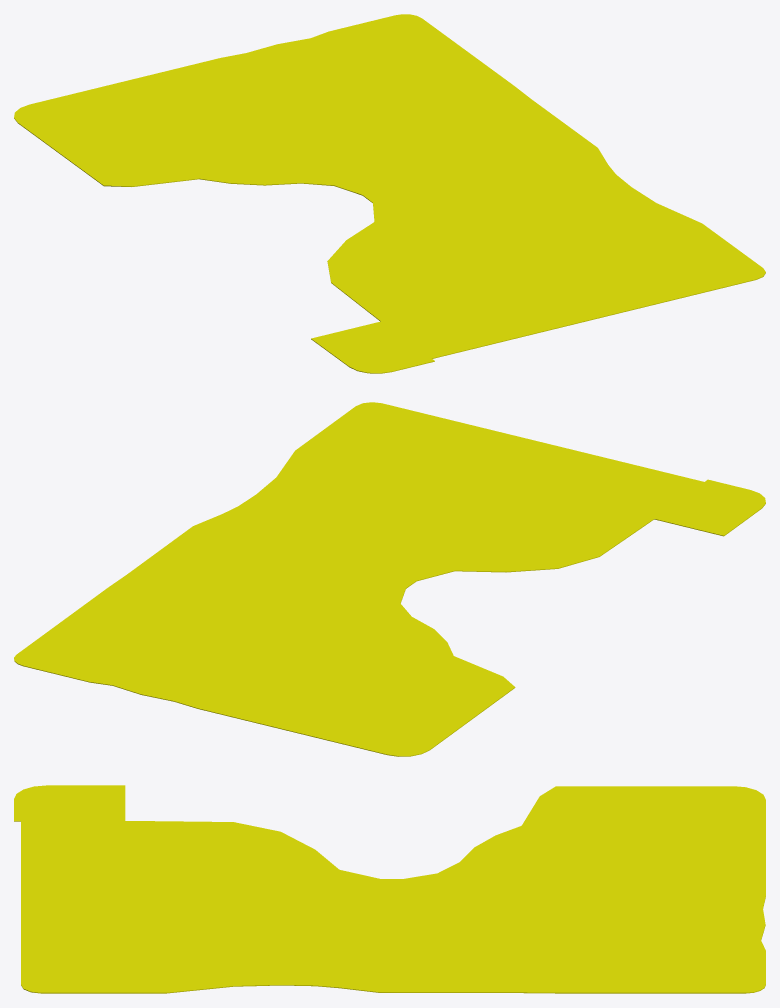
Rendered from sm_hana_building_12f_ceiling.glb.
3 views of the same model, one above another, from view 1: azimuth 30°, elevation 25°; view 2: azimuth 150°, elevation 25°; view 3: azimuth 270°, elevation 25° (orthographic). The views are drawn at different scales.
Visible parts, largest first — view 1: sm_hana_building_12f_ceiling; view 2: sm_hana_building_12f_ceiling; view 3: sm_hana_building_12f_ceiling.
Part boxes in pixels (box(x1,y1,x2,y2)): sm_hana_building_12f_ceiling: box(14, 14, 765, 373); sm_hana_building_12f_ceiling: box(14, 402, 765, 756); sm_hana_building_12f_ceiling: box(14, 785, 765, 993).
Size of the model in its own units: 64.25 by 0.1022 by 98.5.
1 material, 1 textured.
